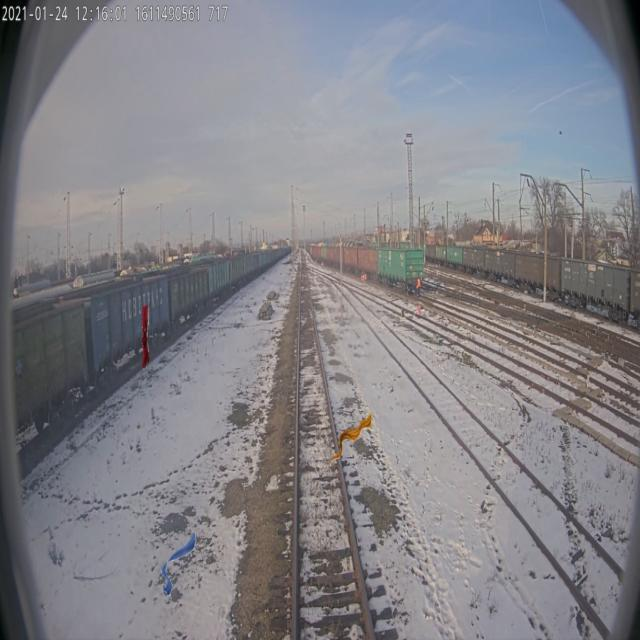floating object: (328, 406, 372, 471), (161, 532, 196, 596), (142, 304, 150, 368)
